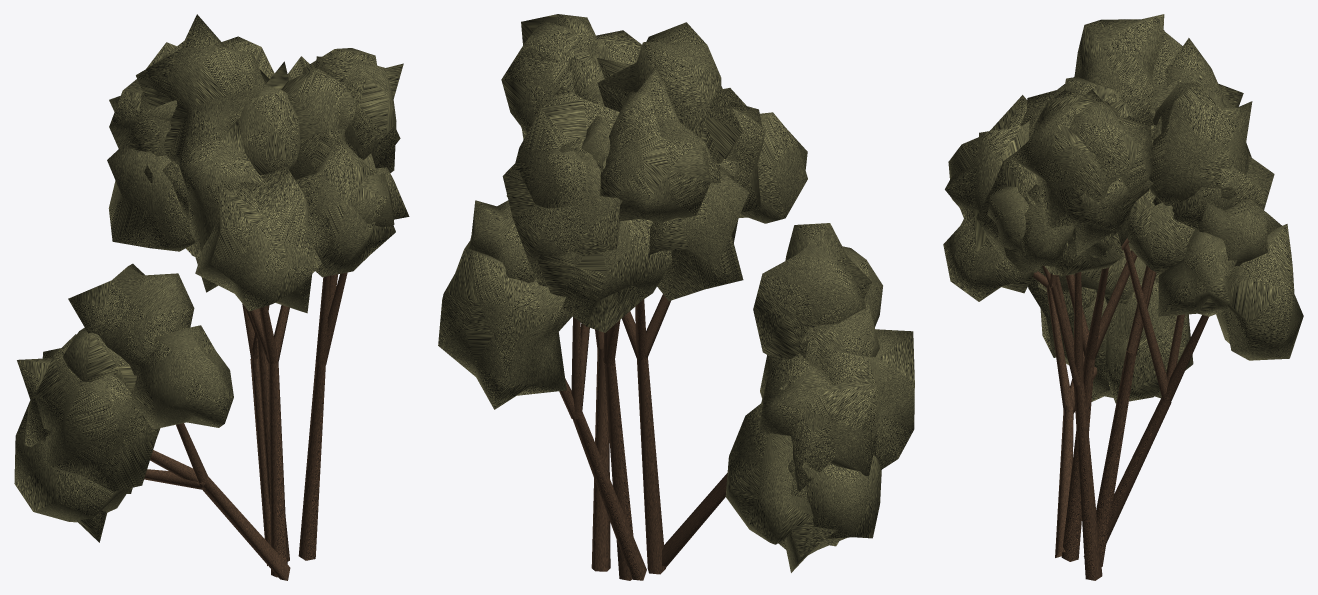
File: shrub_2.dae
3 renders of one model, left to right at view 1: azimuth 30°, elevation 25°; view 2: azimuth 150°, elevation 25°; view 3: azimuth 270°, elevation 25°, orthographic. The views are drawn at different scales.
Visible parts, largest first — view 1: shrub_2-node; view 2: shrub_2-node; view 3: shrub_2-node.
Part boxes in pixels (bbox=[...]): shrub_2-node: bbox=[14, 14, 409, 580]; shrub_2-node: bbox=[438, 14, 914, 580]; shrub_2-node: bbox=[943, 14, 1303, 580].
Bounding box in the file's own units: 0.7026 × 0.6197 × 1.
1 material, 1 textured.
